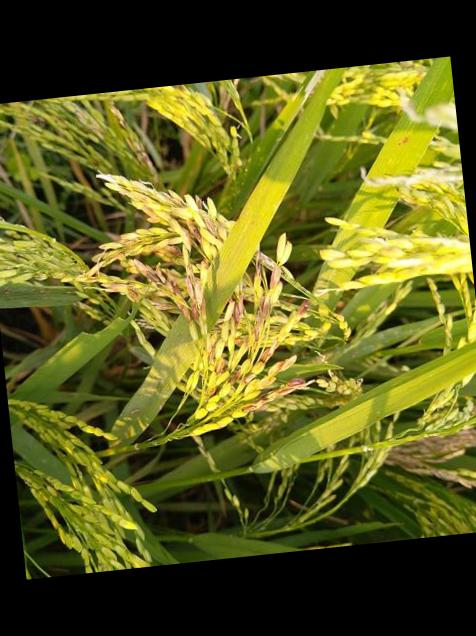Panicle Blight: (385, 430, 476, 488), (130, 260, 204, 328), (107, 175, 185, 229), (109, 106, 155, 182), (230, 379, 304, 419), (90, 239, 182, 267), (253, 355, 295, 390), (313, 370, 361, 397), (96, 277, 141, 303), (61, 101, 98, 130), (174, 218, 201, 256), (206, 335, 226, 385), (246, 250, 272, 281), (233, 326, 262, 352), (199, 214, 225, 241), (226, 296, 248, 326), (265, 262, 284, 290), (187, 252, 210, 275), (253, 294, 268, 323), (236, 374, 254, 390), (255, 350, 274, 365), (294, 301, 309, 320), (226, 367, 241, 385), (191, 195, 205, 209), (206, 386, 215, 397)
